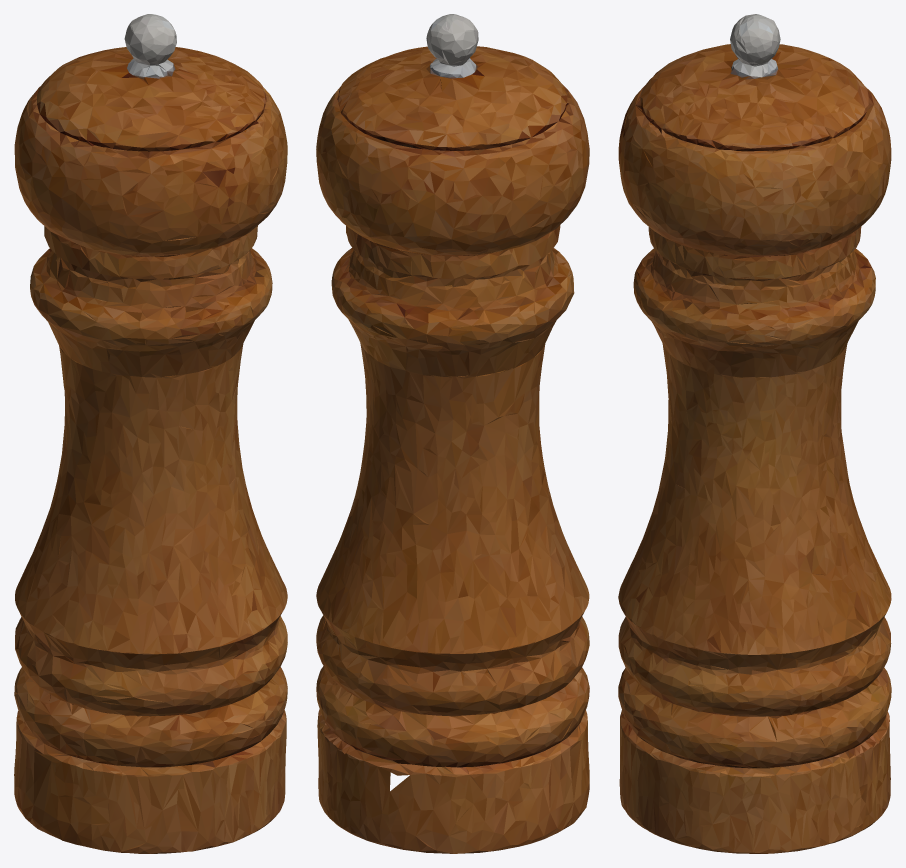
File: pepper.glb
3 views of the same model, side by side, from view 1: azimuth 30°, elevation 25°; view 2: azimuth 150°, elevation 25°; view 3: azimuth 270°, elevation 25° (orthographic).
Visible parts, largest first — view 1: geometry_0; view 2: geometry_0; view 3: geometry_0.
Part boxes in pixels (x1,y1,x2,y2): geometry_0: [14, 14, 287, 853]; geometry_0: [316, 14, 589, 853]; geometry_0: [618, 14, 891, 853].
Size of the model in its own units: 0.0478 by 0.15 by 0.0475.
1 material, 1 textured.
